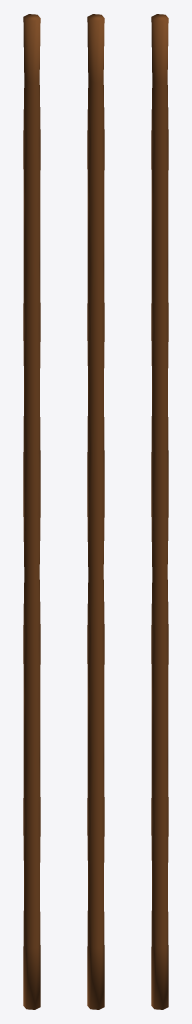
The model's file is Rope.fbx.
3 renders of one model, left to right at view 1: azimuth 90°, elevation 25°; view 2: azimuth 150°, elevation 25°; view 3: azimuth 270°, elevation 25°, orthographic.
Visible parts, largest first — view 1: Rope_Model; view 2: Rope_Model; view 3: Rope_Model.
Boxes of the visible parts, <box> form: Rope_Model: <box>23,14,40,1009</box>; Rope_Model: <box>87,14,104,1009</box>; Rope_Model: <box>151,14,168,1009</box>.
Size of the model in its own units: 1.01 by 1.01 by 63.18.
